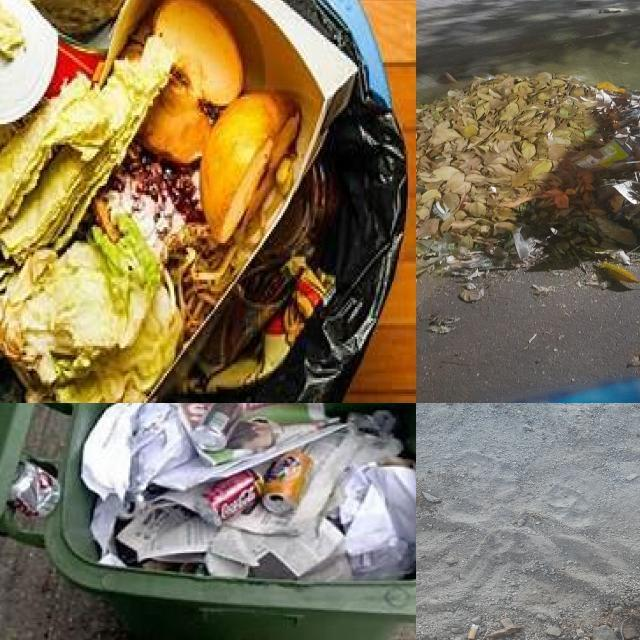Background: (416, 403, 640, 640)
Cig_bud: (467, 624, 480, 640)
Garbage: (88, 403, 416, 579), (416, 73, 640, 286)
Plastic_Bag: (514, 228, 535, 261)
Plastic_wraper: (184, 183, 335, 392), (574, 140, 630, 168)
can: (196, 470, 263, 525), (262, 450, 314, 514), (12, 460, 61, 517), (192, 403, 242, 451)
